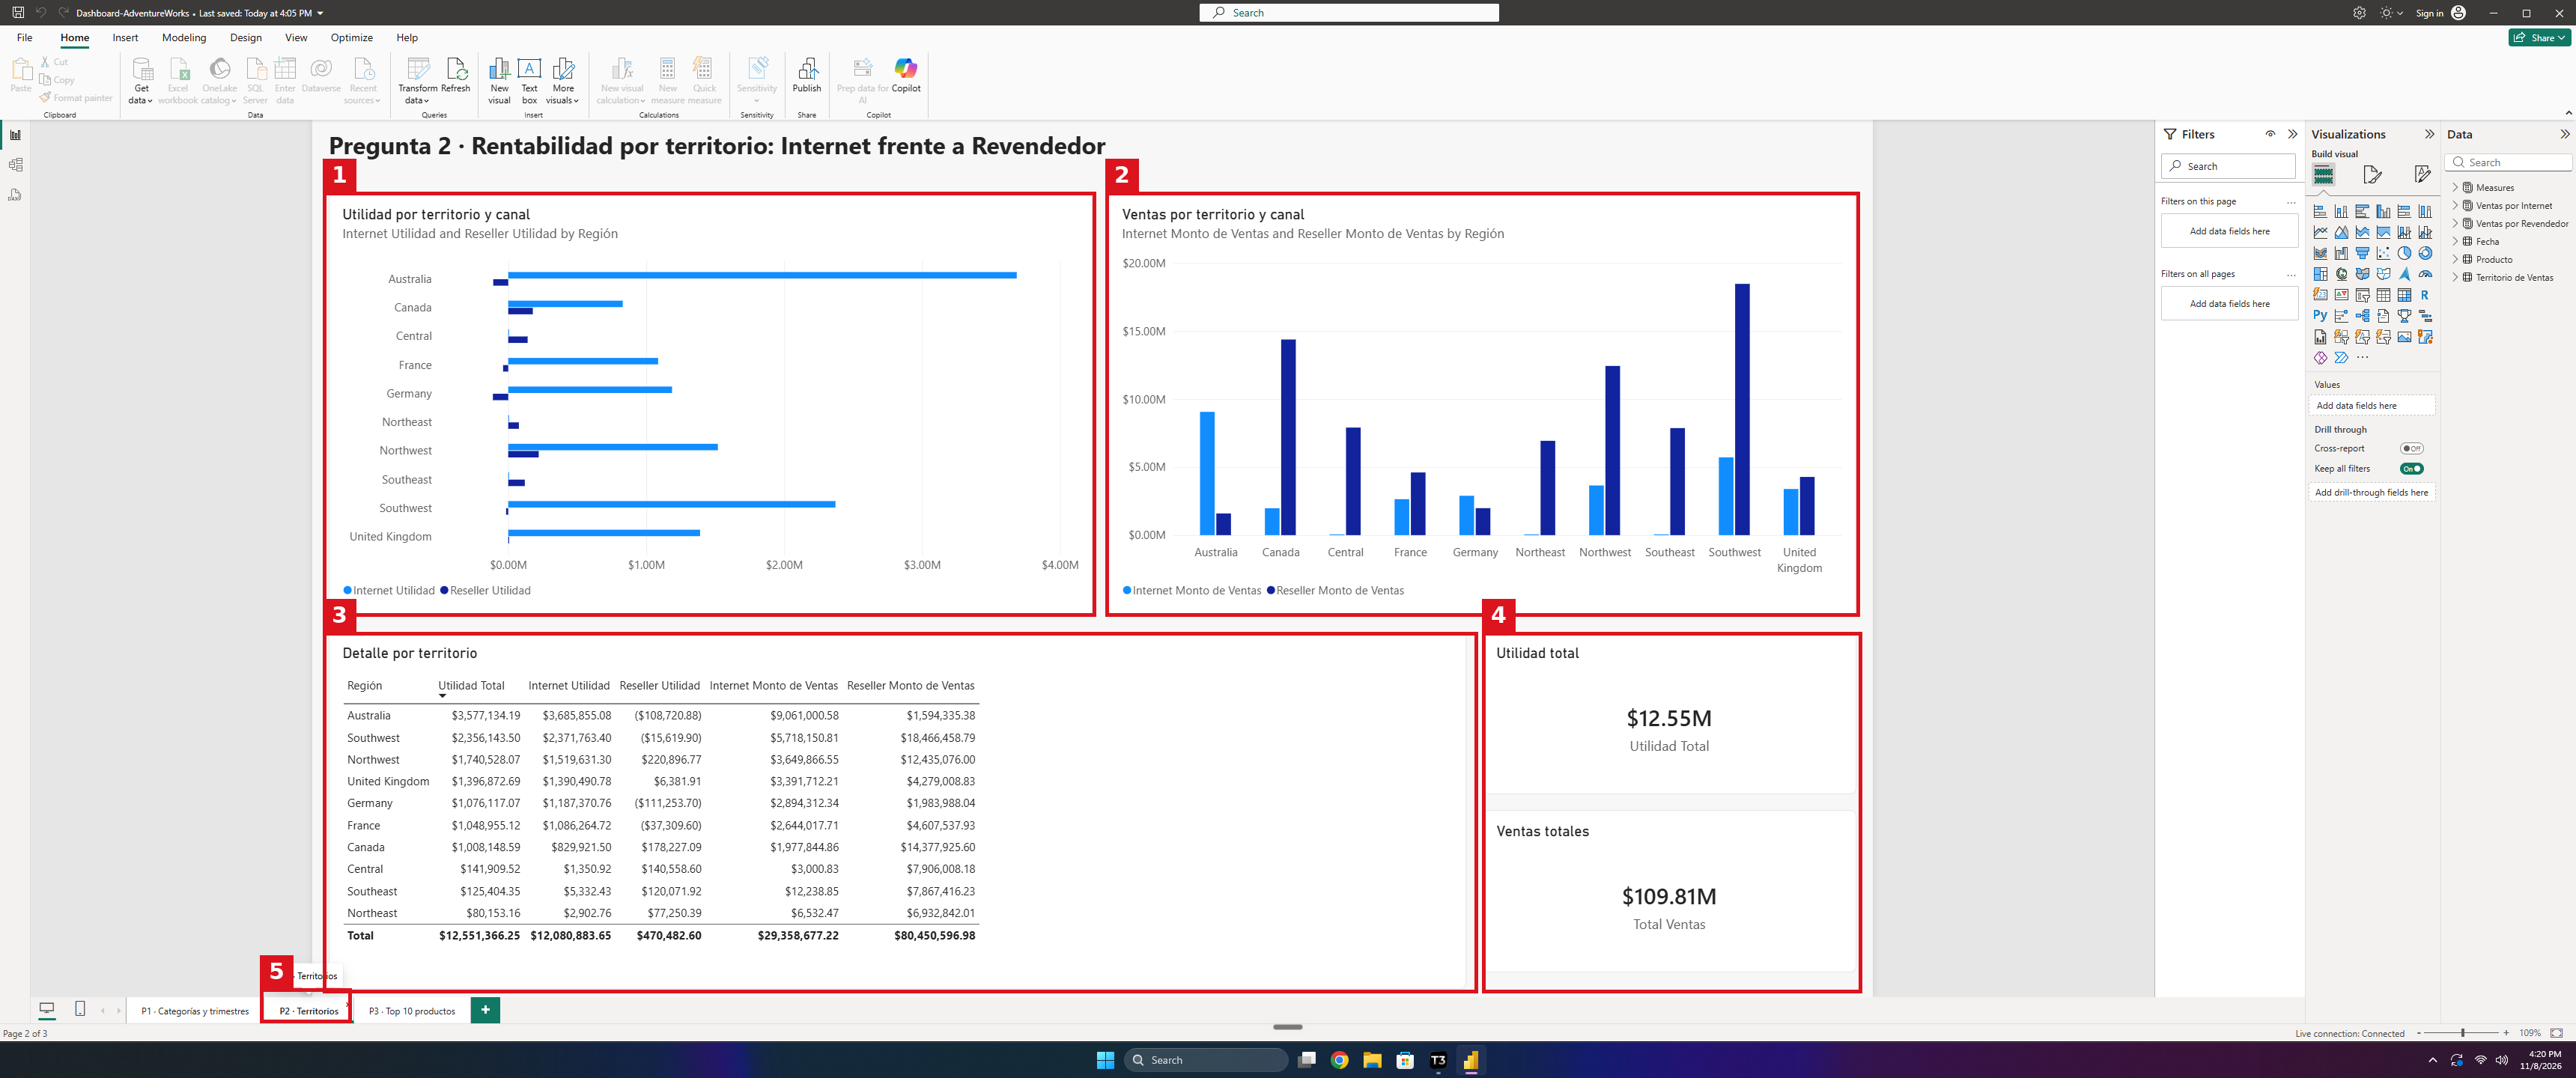

This screenshot's page, from the dashboard's own definition file:
{"tool":"powerbi","page":{"name":"P2 · Territorios","canvas":[1920,1080],"ordinal":1},"visuals":[{"type":"textbox","box":[20,10,1880,70],"z":0},{"type":"clusteredBarChart","title":"Utilidad por territorio y canal","fields":{"Category":["Territorio de Ventas.Región"],"Y":["Measures.Internet Utilidad","Measures.Reseller Utilidad"]},"box":[20,90,940,520],"z":1},{"type":"clusteredColumnChart","title":"Ventas por territorio y canal","fields":{"Category":["Territorio de Ventas.Región"],"Y":["Ventas por Internet.Internet Monto de Ventas","Ventas por Revendedor.Reseller Monto de Ventas"]},"box":[980,90,920,520],"z":2},{"type":"tableEx","title":"Detalle por territorio","fields":{"Values":["Territorio de Ventas.Región","Measures.Utilidad Total","Measures.Internet Utilidad","Measures.Reseller Utilidad","Ventas por Internet.Internet Monto de Ventas","Ventas por Revendedor.Reseller Monto de Ventas"]},"box":[20,630,1400,440],"z":3},{"type":"card","title":"Utilidad total","fields":{"Values":["Measures.Utilidad Total"]},"box":[1440,630,460,200],"z":4},{"type":"card","title":"Ventas totales","fields":{"Values":["Measures.Total Ventas"]},"box":[1440,850,460,200],"z":5}]}

Visuals, with their boxes on the page's 1920x1080 design canvas (x1, y1, x2, y2). These are canvas units, not pixel positions in the 2576x1078 screenshot, which may show the page scaled, cropped or inside an application window:
textbox: {"x1": 20, "y1": 10, "x2": 1900, "y2": 80}
"Utilidad por territorio y canal" clusteredBarChart: {"x1": 20, "y1": 90, "x2": 960, "y2": 610}
"Ventas por territorio y canal" clusteredColumnChart: {"x1": 980, "y1": 90, "x2": 1900, "y2": 610}
"Detalle por territorio" tableEx: {"x1": 20, "y1": 630, "x2": 1420, "y2": 1070}
"Utilidad total" card: {"x1": 1440, "y1": 630, "x2": 1900, "y2": 830}
"Ventas totales" card: {"x1": 1440, "y1": 850, "x2": 1900, "y2": 1050}
